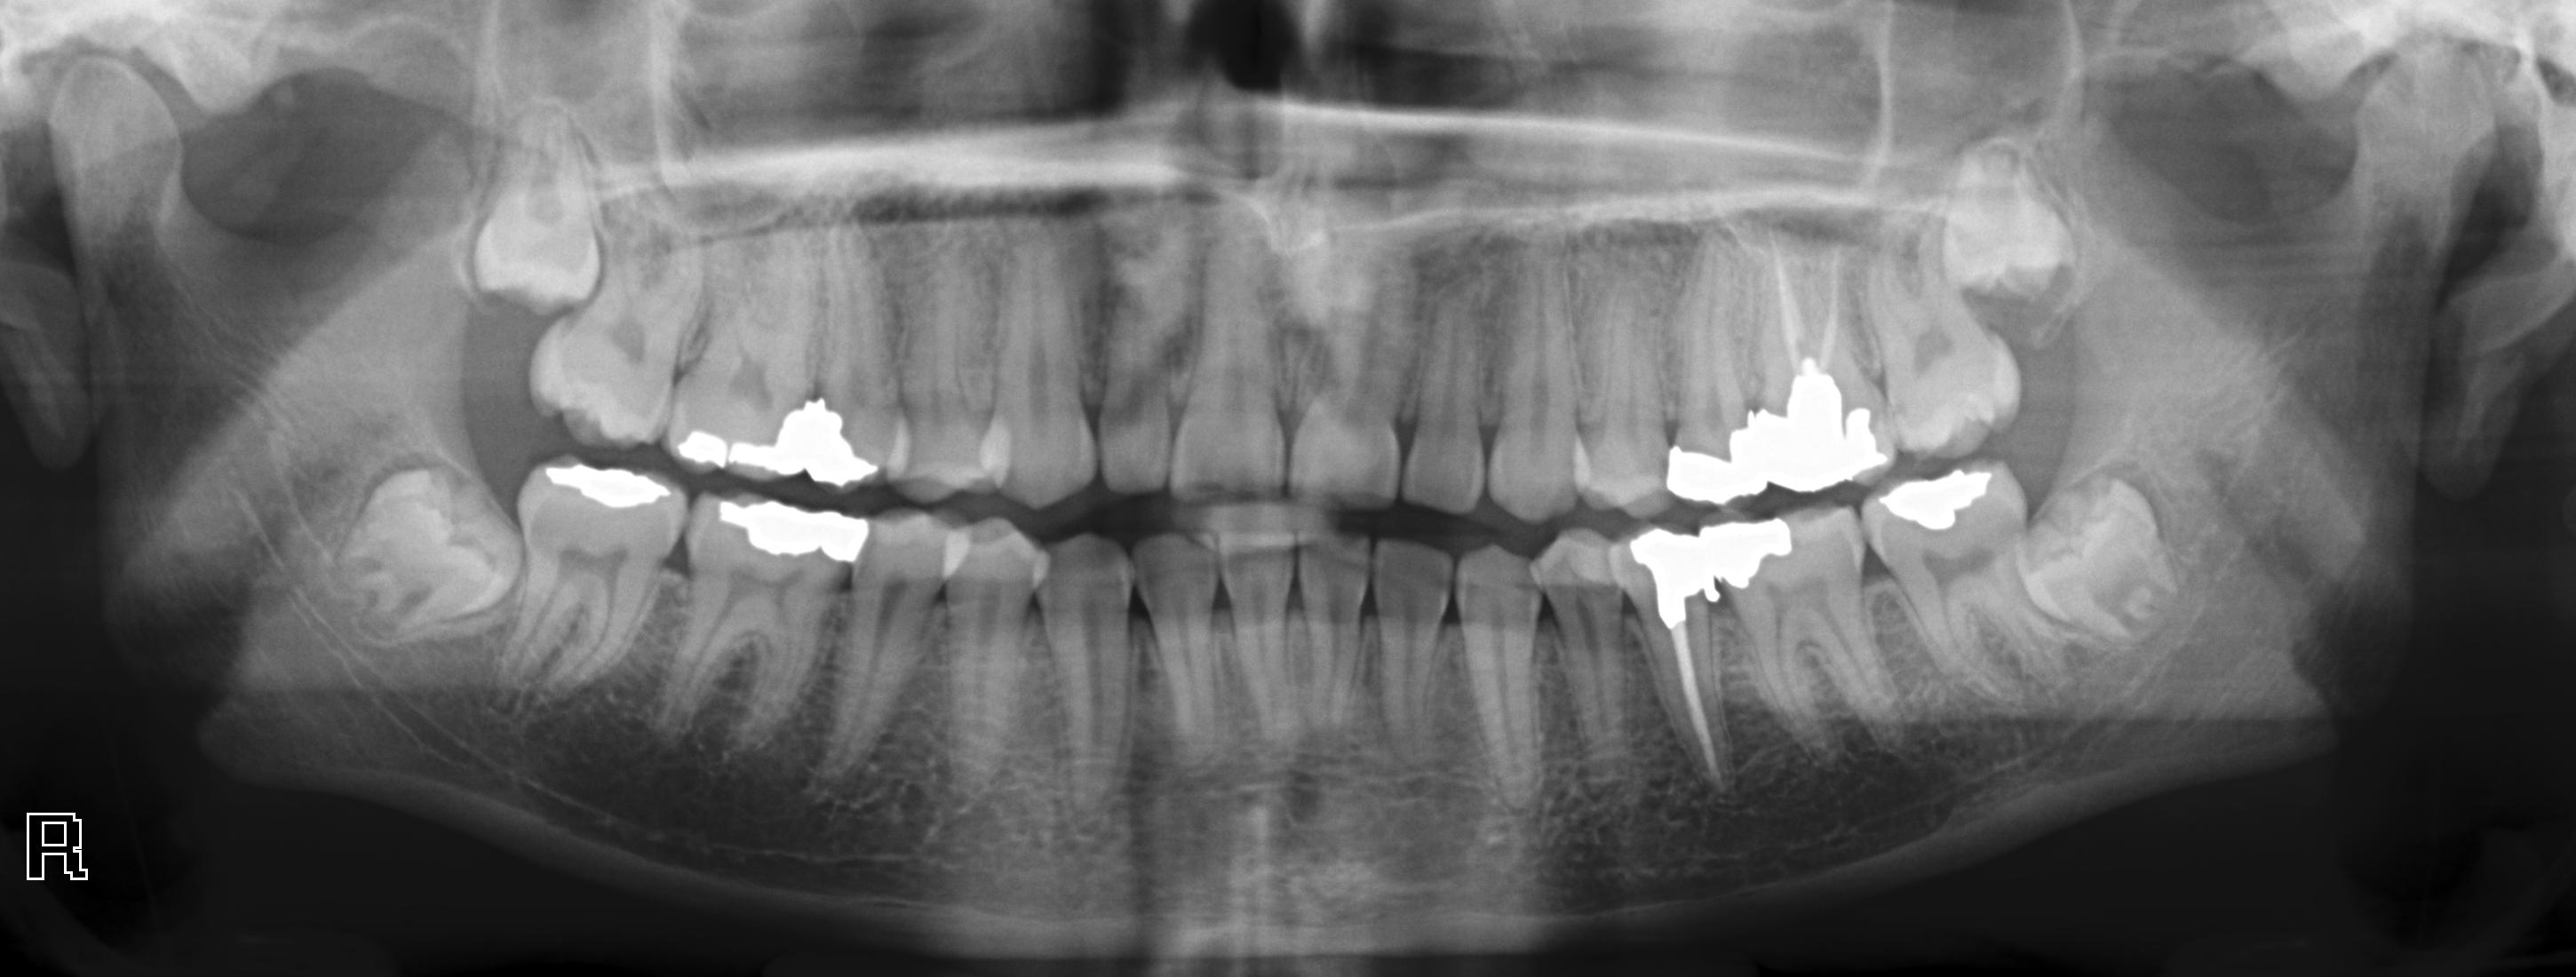Çürük: (1753, 345, 1891, 502), (726, 386, 894, 499), (708, 484, 887, 578), (1610, 502, 1712, 645), (1863, 456, 2014, 542), (526, 448, 687, 521), (1653, 411, 1766, 507), (1700, 499, 1799, 601), (675, 424, 736, 478)
